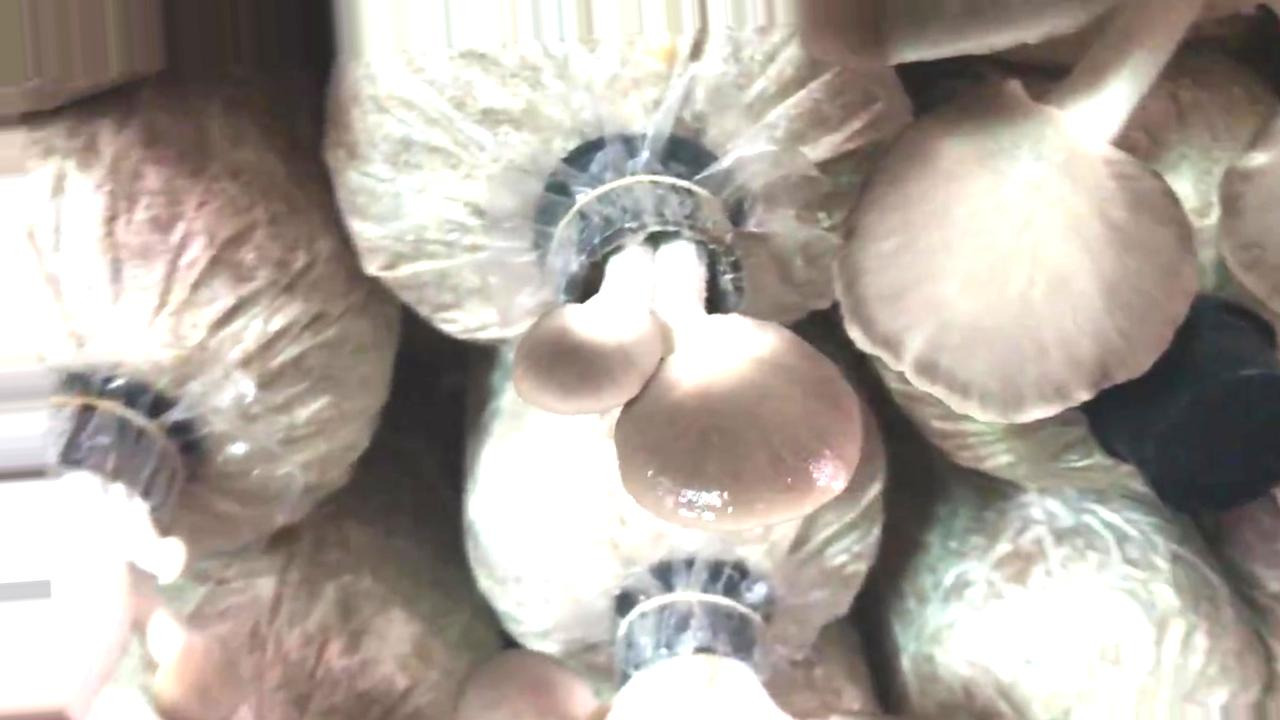nam: (786, 1, 1278, 432), (507, 173, 864, 535), (459, 581, 774, 720)
